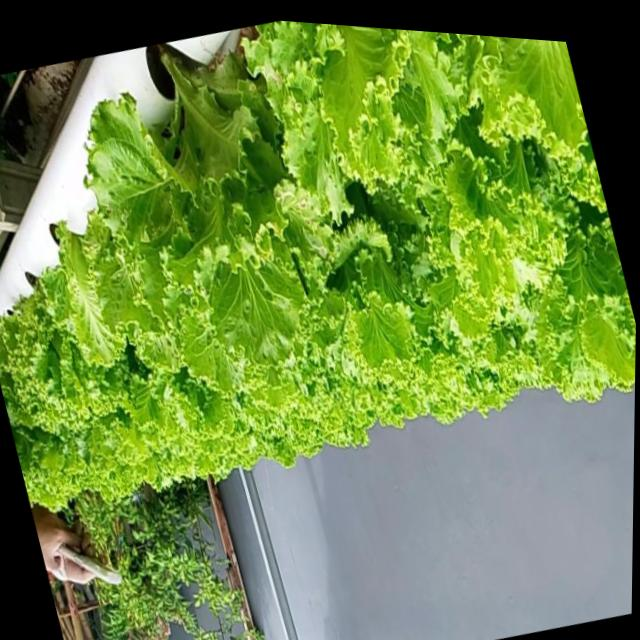Mature: (0, 21, 636, 493), (117, 57, 328, 353), (0, 233, 152, 451)
